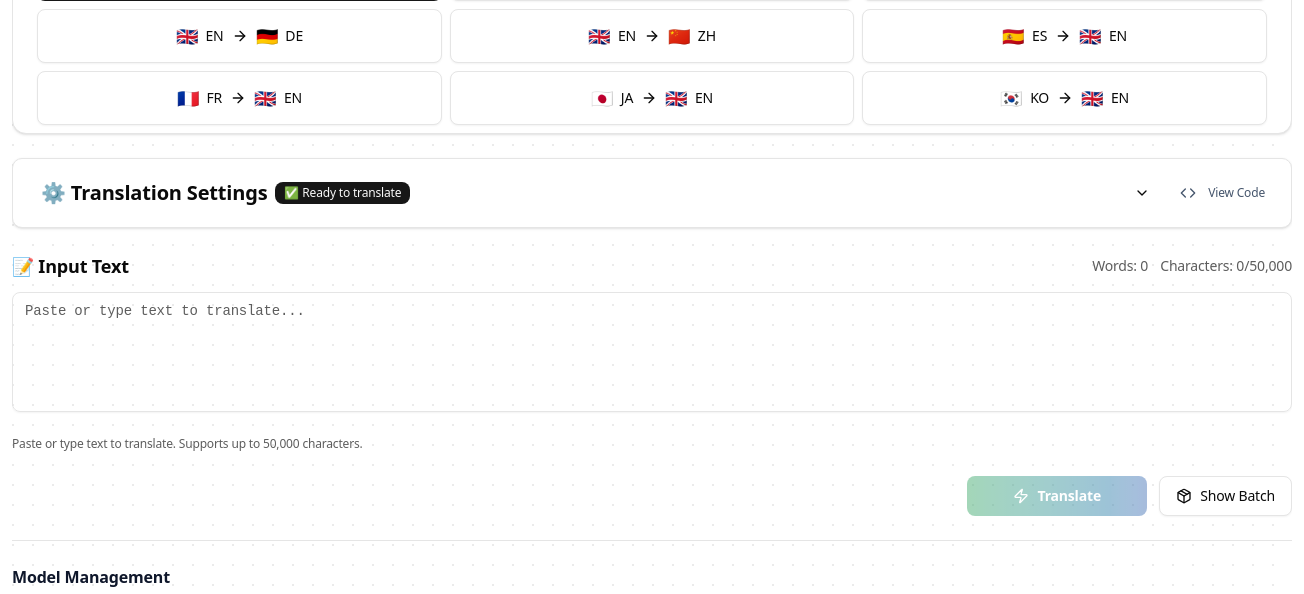
Test: Integration Tests › Complete Translation Workflow › full flow: select en→es, input "Hello", translate, see "Hola"
# Input text
In the text box with test id "translator-input": (652, 352) [12,292,1292,412], type "Hello"
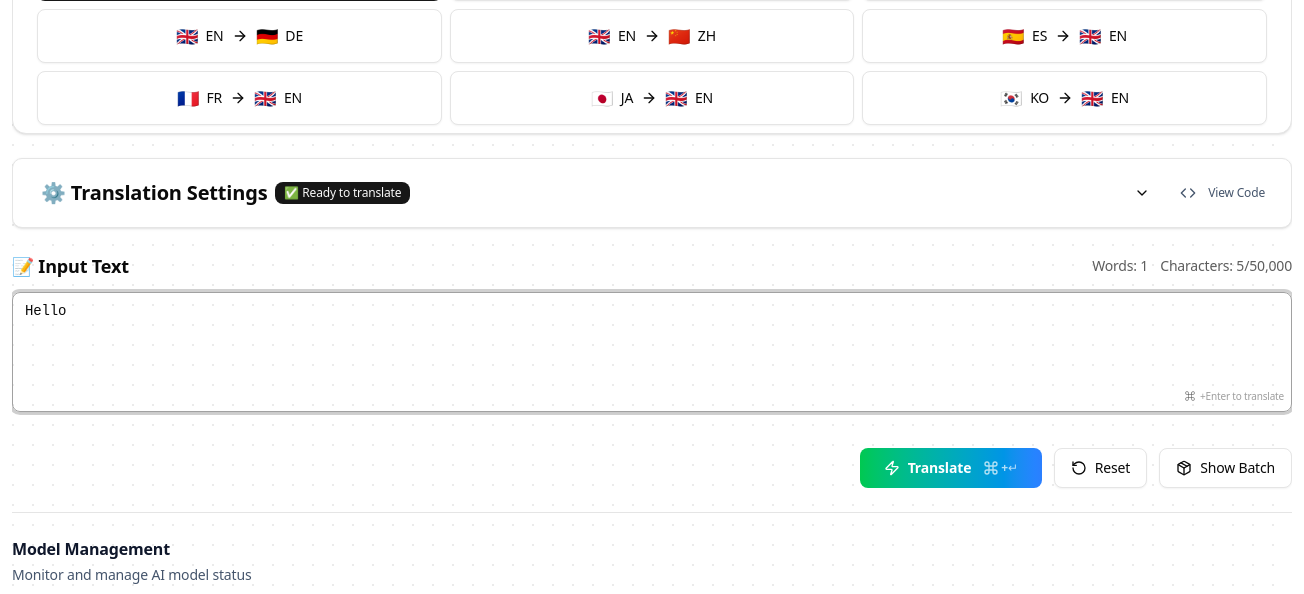
Click the button with test id "translate-btn": (951, 468) [860,448,1042,488]
(page scrolled)
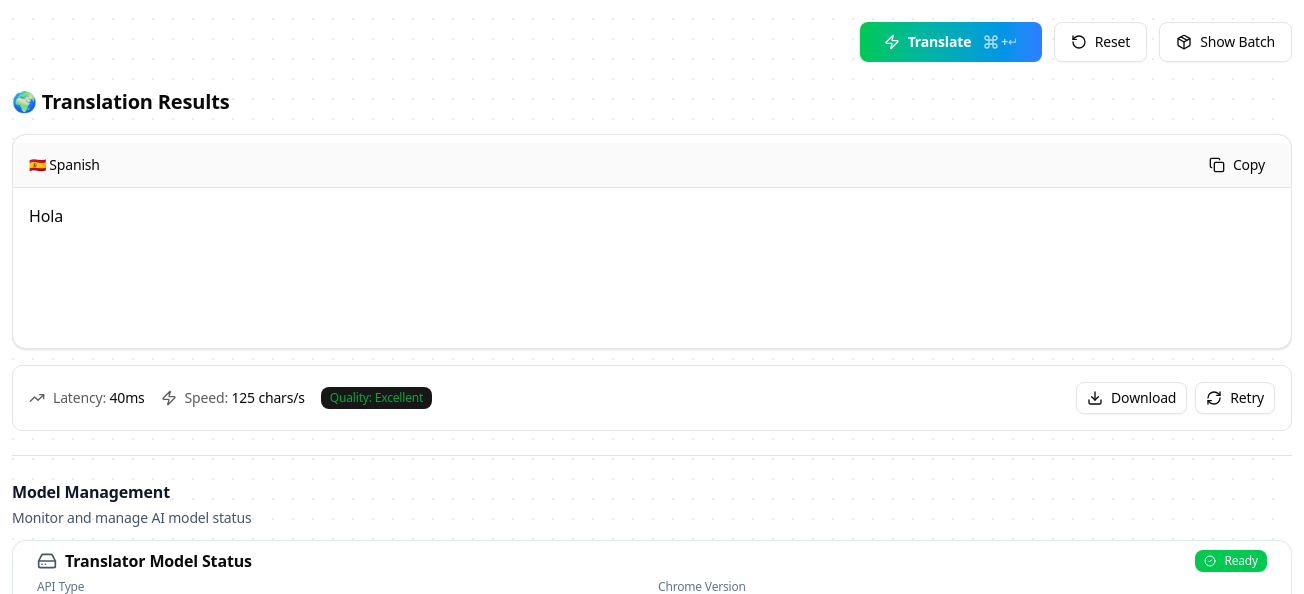
Expected: the text "Hola" is shown, [29,205,63,227]
